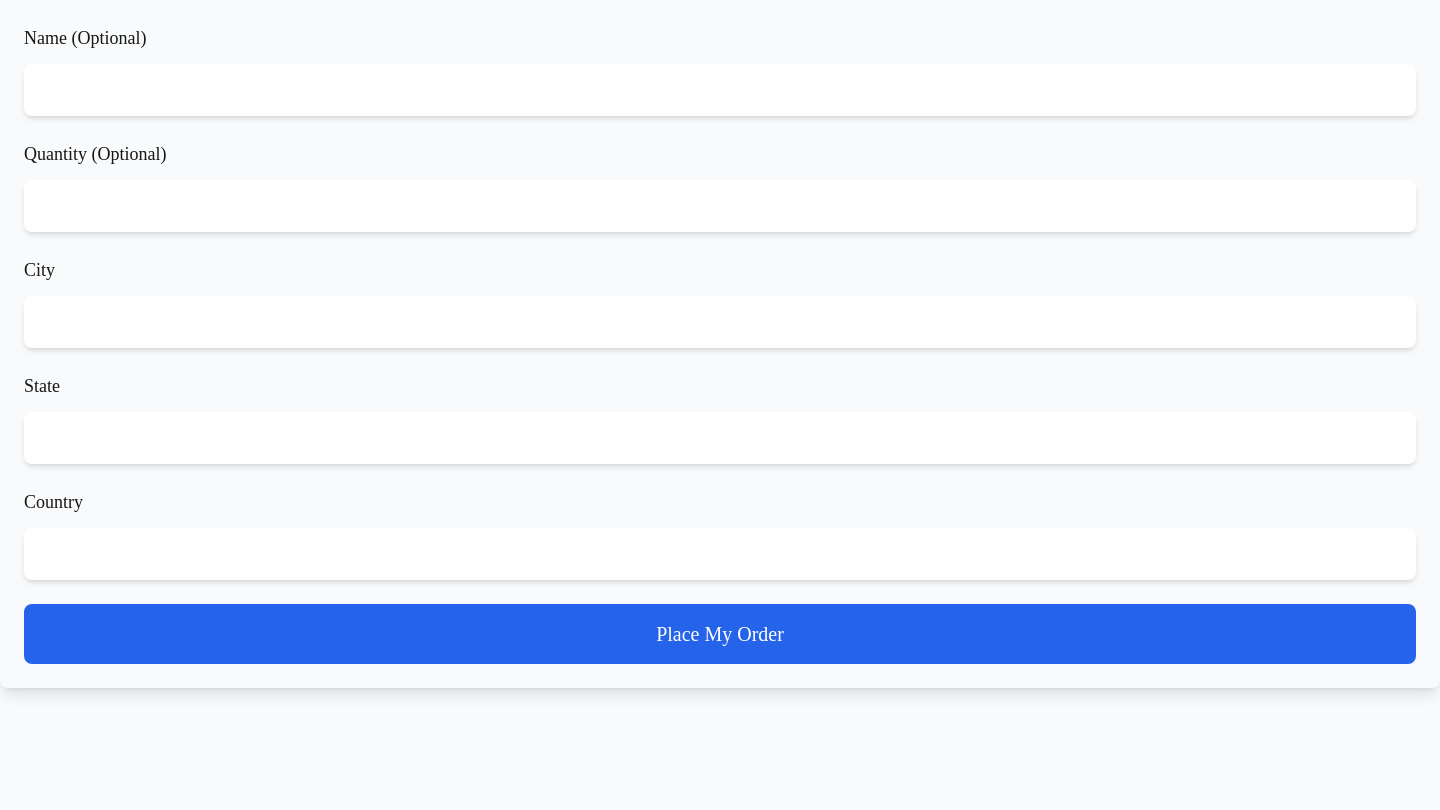
Scenario: OrderForm Component › displays validation errors when fields are invalid
Click the button "Place My Order" at (720, 634), box [24, 604, 1416, 664]
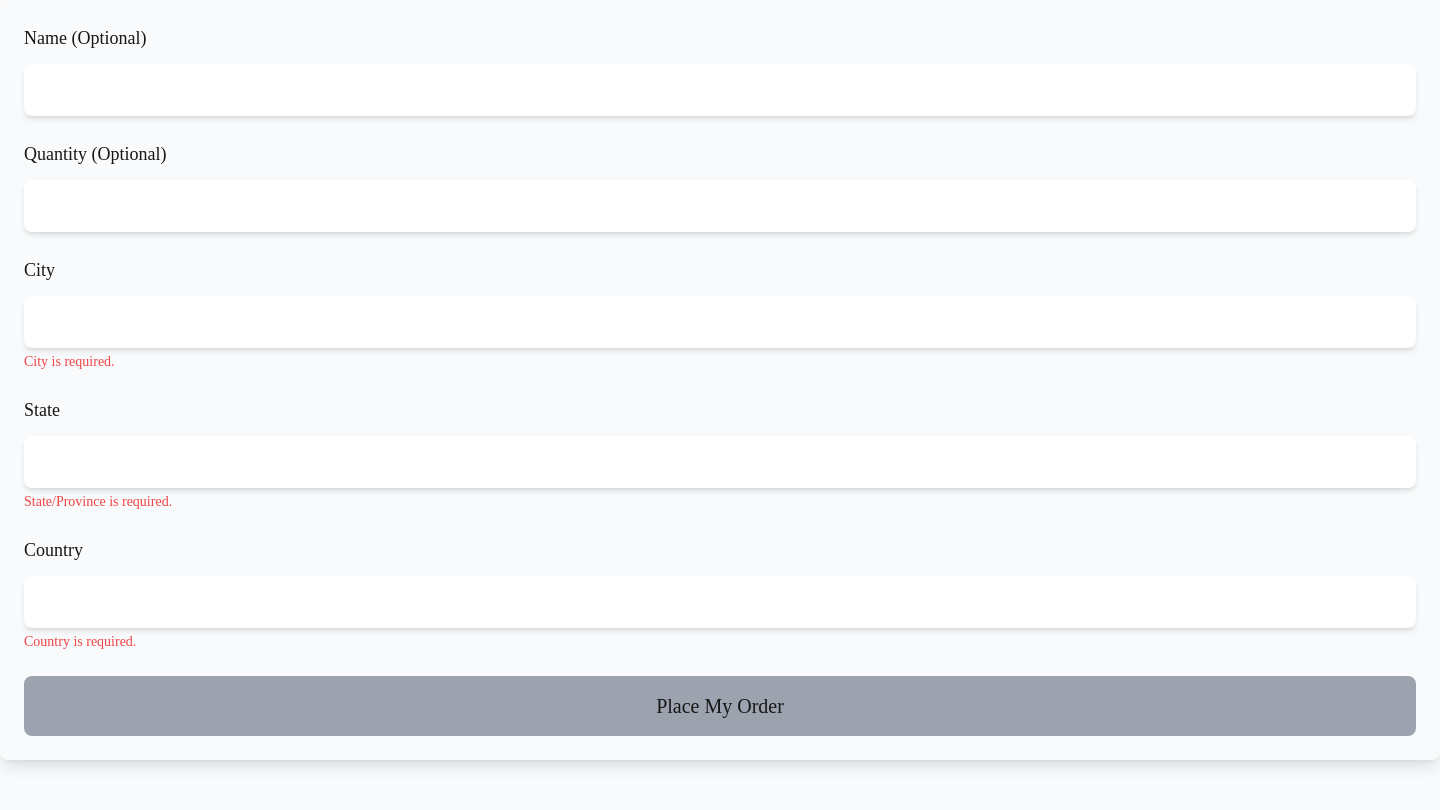
Expected: the text "City is required." is shown, [24, 354, 115, 369]
